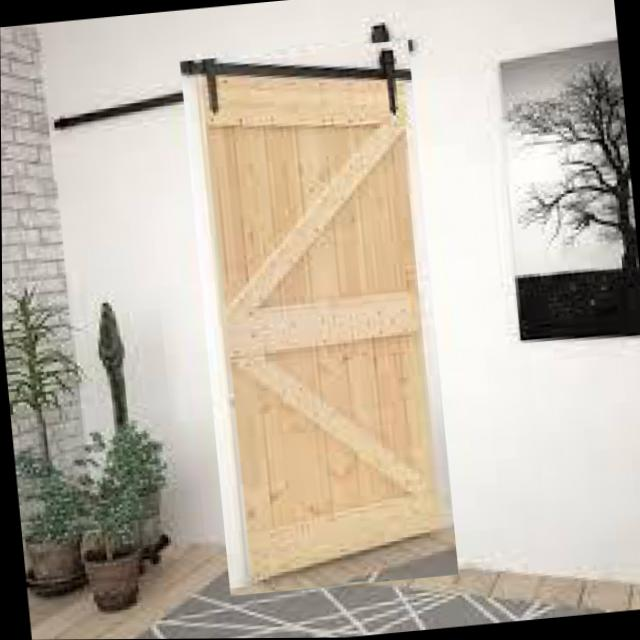close: (179, 40, 458, 597)
